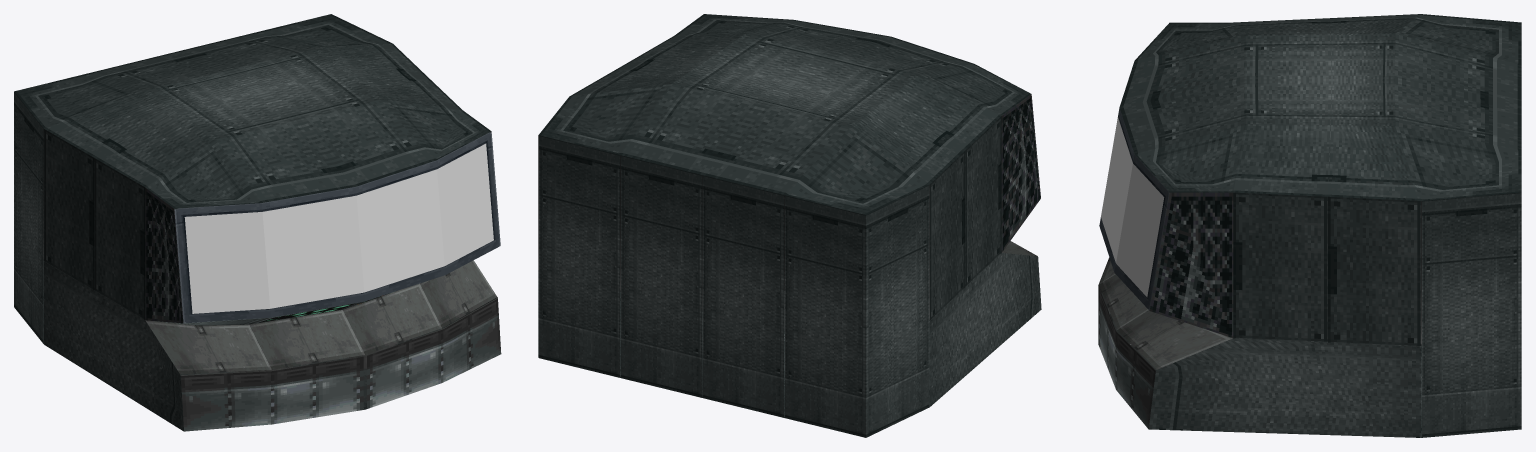
File: cockpit.glb
The picture shows the model from 3 angles, left to right: view 1: azimuth 30°, elevation 25°; view 2: azimuth 150°, elevation 25°; view 3: azimuth 270°, elevation 25°; orthographic projection. The views are drawn at different scales.
Visible parts, largest first — view 1: Ship; view 2: Ship; view 3: Ship.
Part boxes in pixels (x1,y1,x2,y2): Ship: (14, 14, 501, 431); Ship: (538, 14, 1041, 437); Ship: (1098, 14, 1521, 437).
Bounding box in the file's own units: 4.4 × 2.9 × 4.4.
2 materials, 1 textured.
